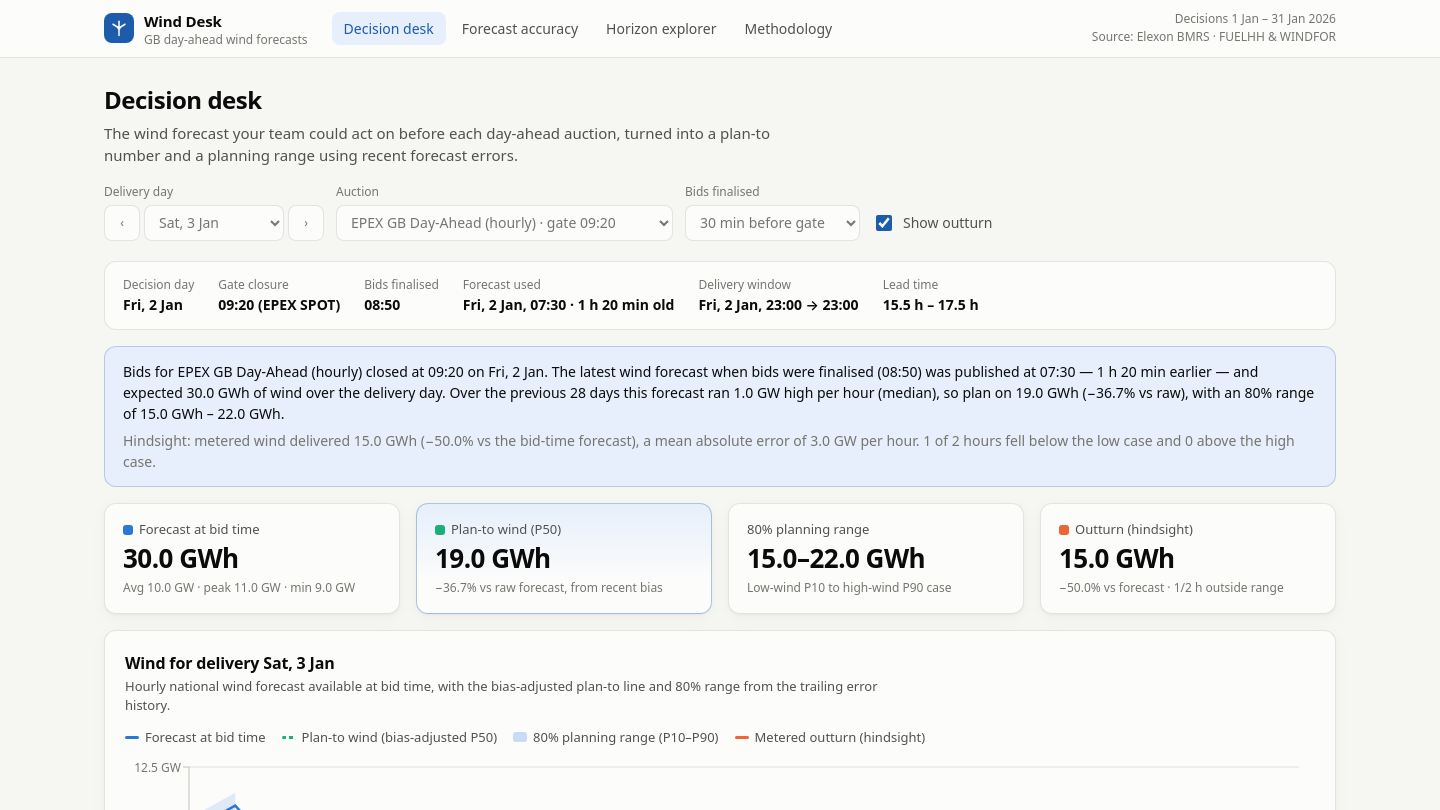
Scenario: App › hides outturn when toggled off
This screenshot has width=1440, height=810.
Expected: the text "Outturn (hindsight)" is shown, [1059, 520, 1193, 538]
Click the checkbox labelled "Show outturn": (884, 223) [876, 215, 892, 231]
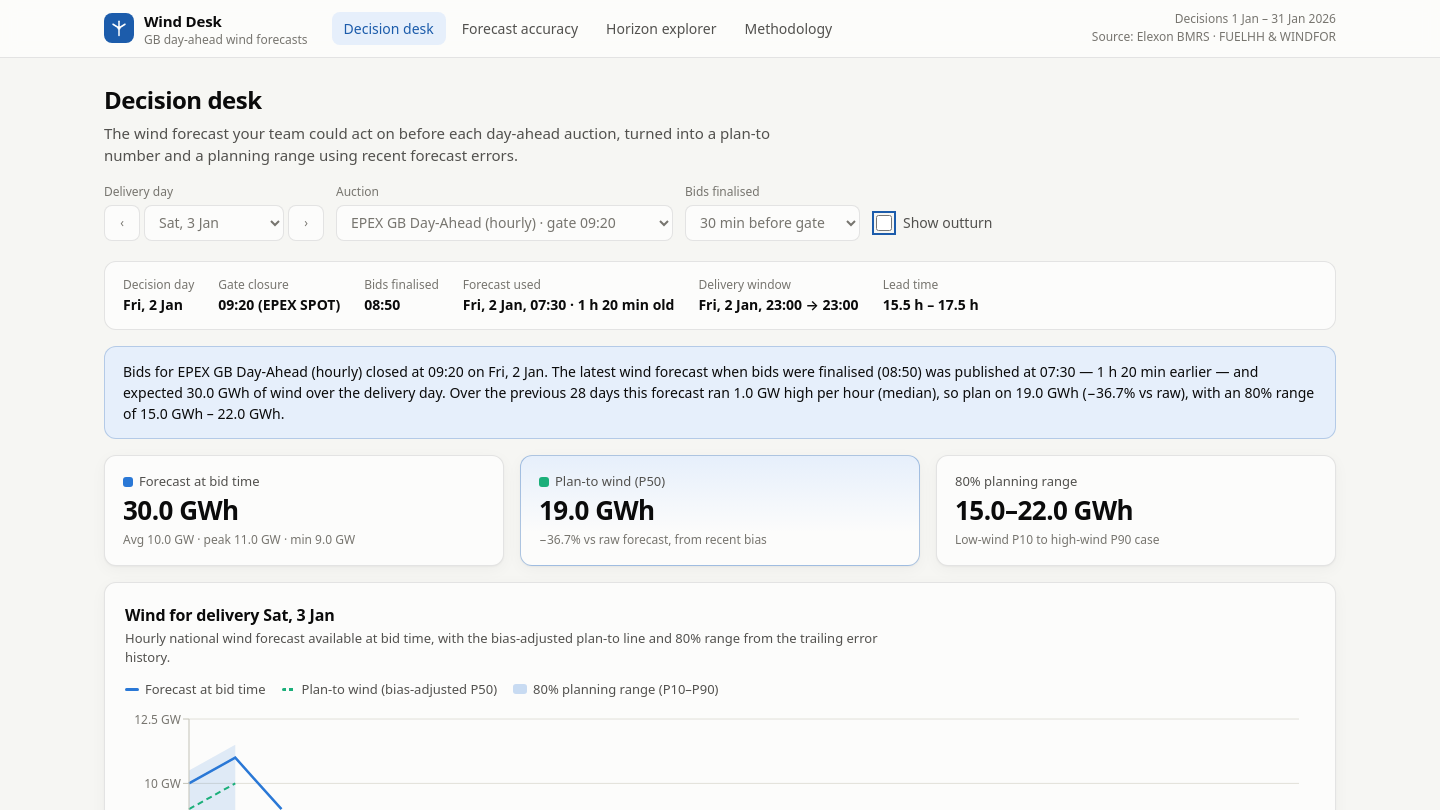
Result: the text "Outturn (hindsight)" is gone
